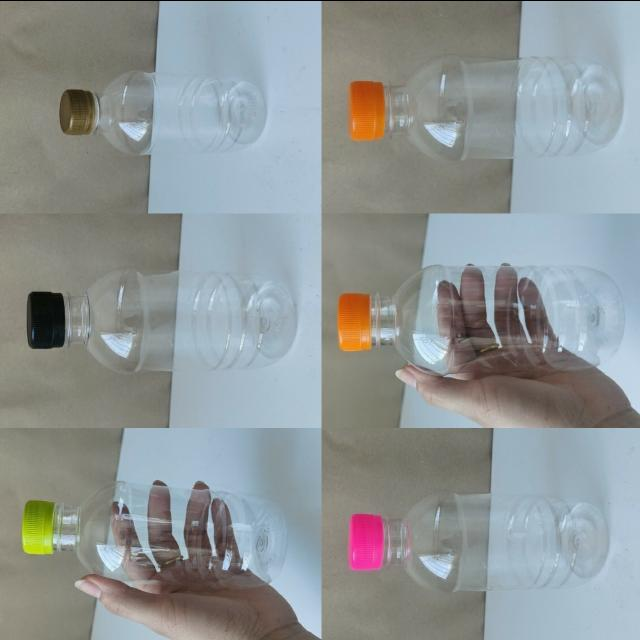plastik: (338, 263, 624, 374), (348, 55, 621, 160), (27, 267, 296, 373), (22, 481, 287, 586), (348, 491, 607, 591), (59, 70, 266, 154)
